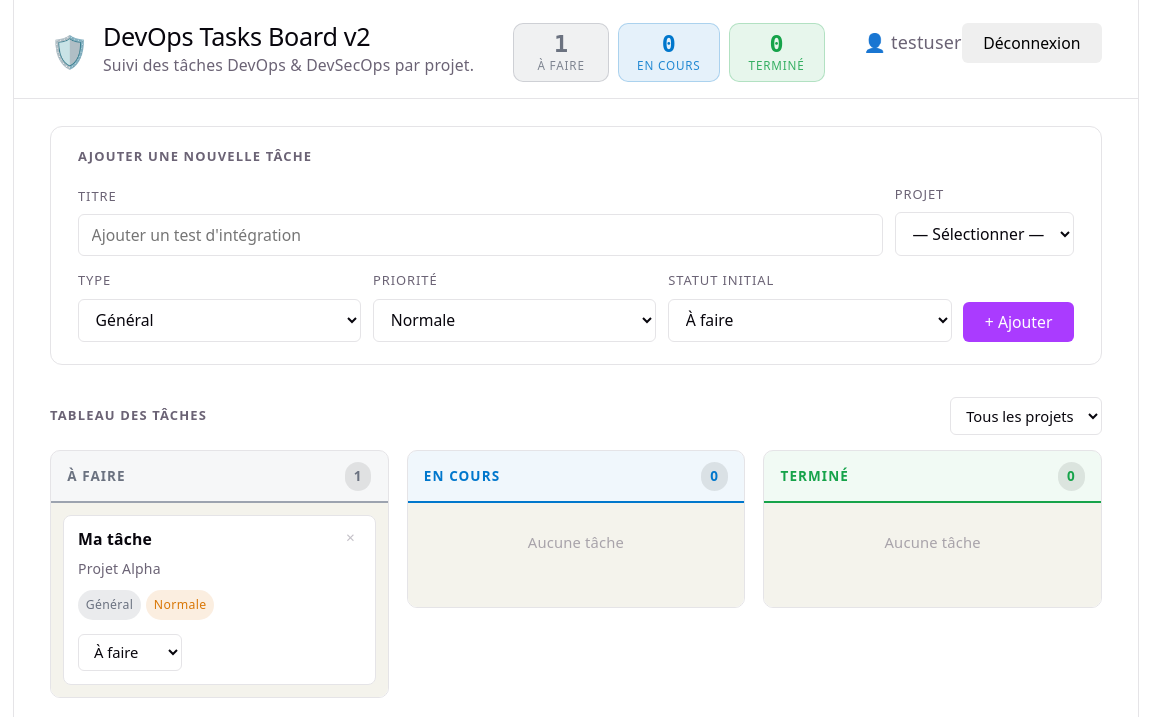
App › affiche une erreur si le changement de statut échoue
Step 1. Select "Terminé" in the dropdown named "Changer le statut" → (130, 652), box [78,634,182,671]
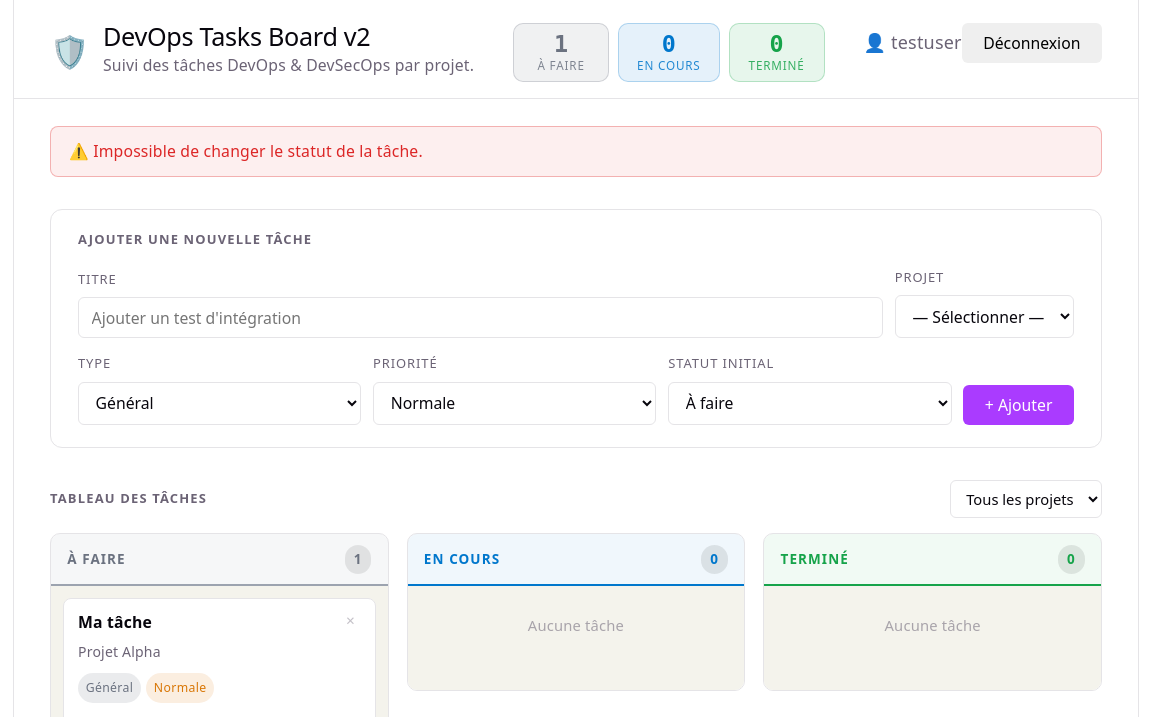
expect the text "⚠️ Impossible de changer le statut de la tâche." is shown: met, box [50,126,1102,177]
